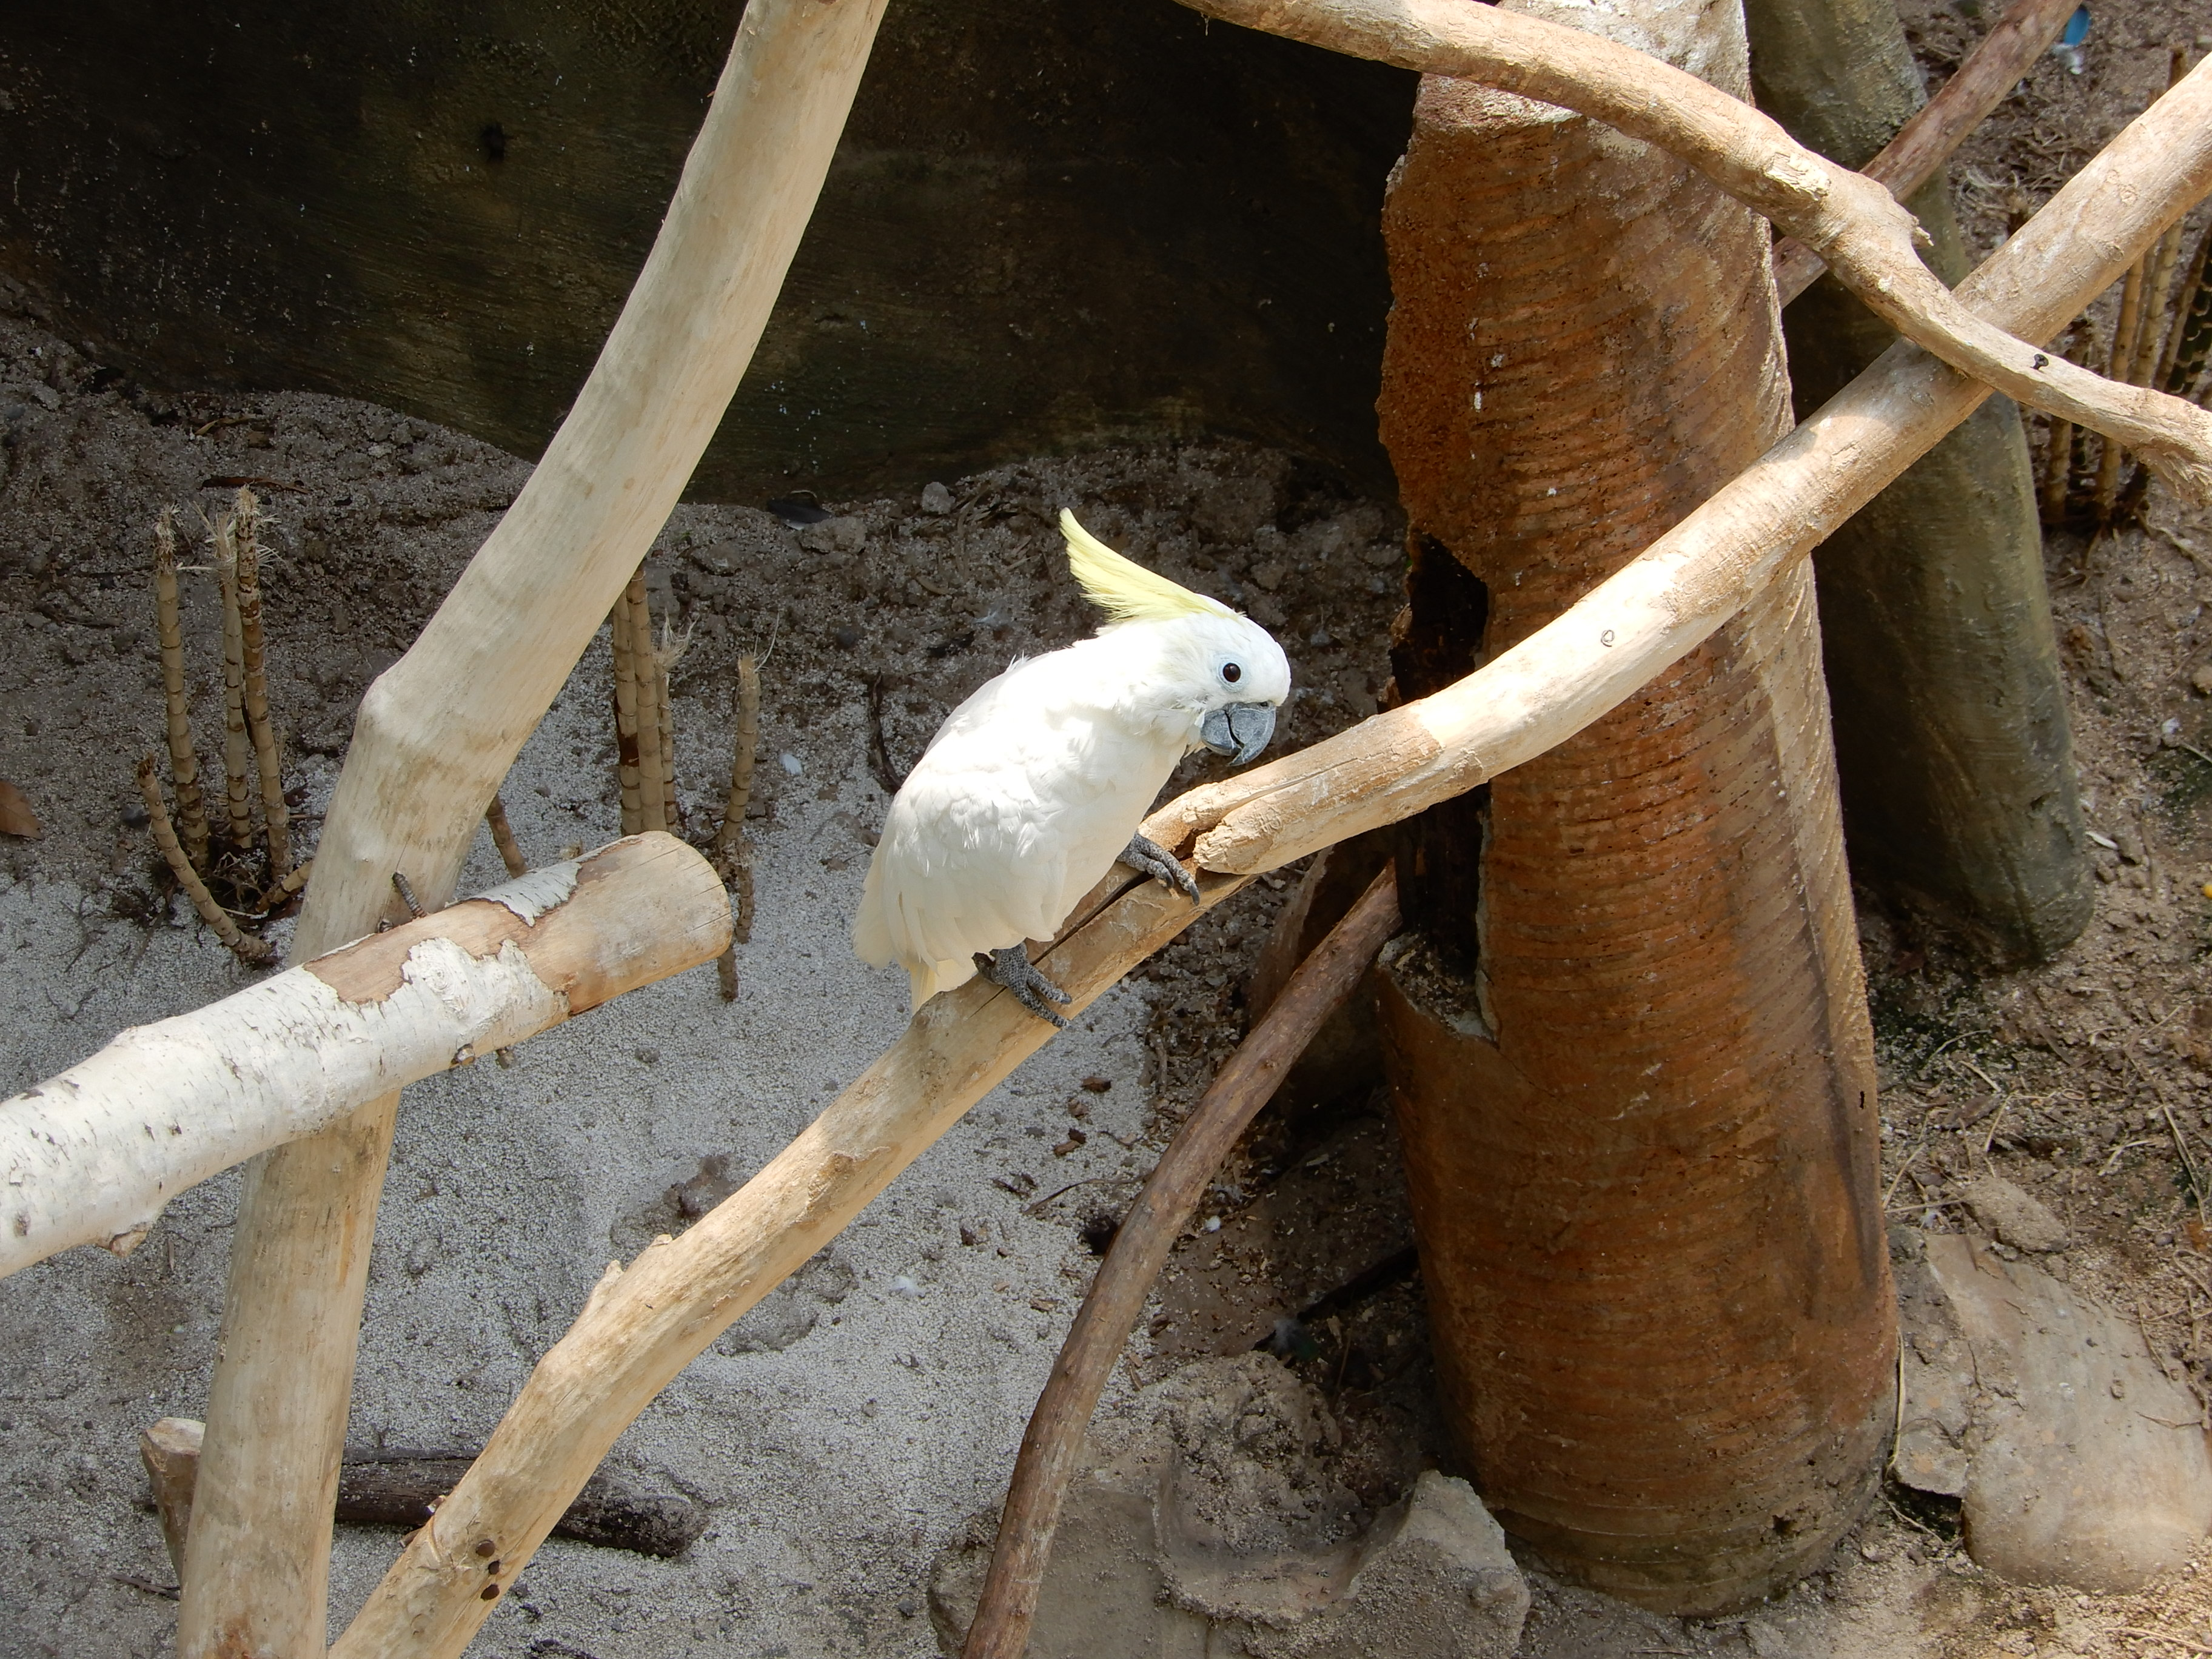Cacatua galerita: (846, 493, 1306, 1035)
